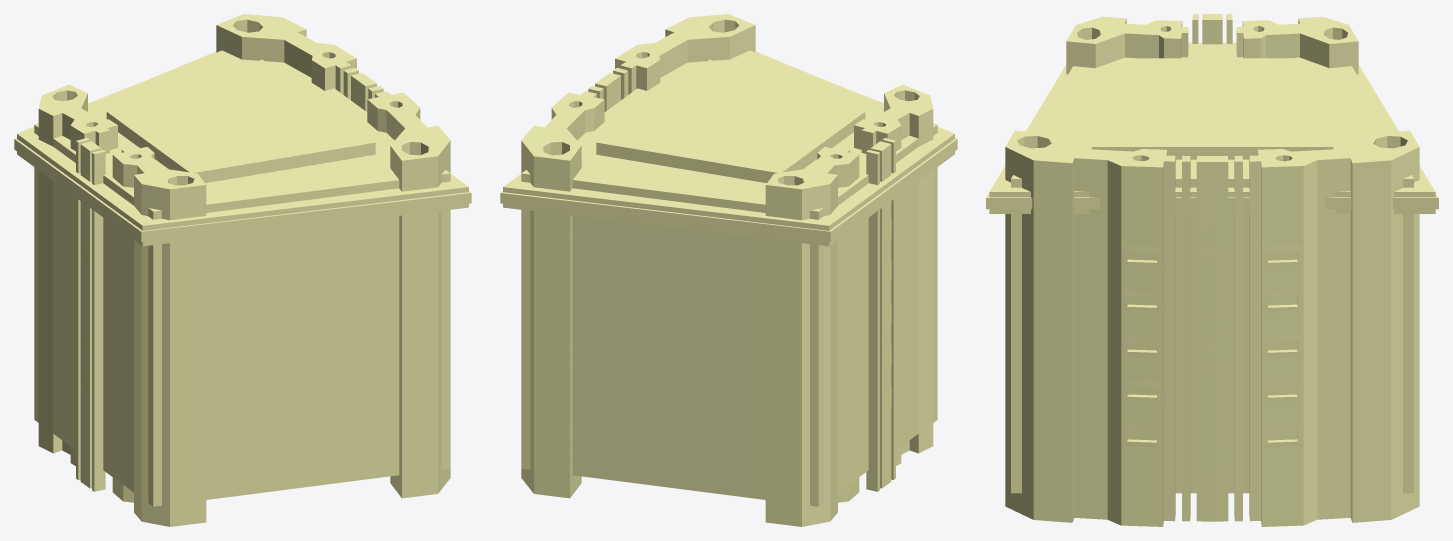
Rendered from MangaKa Props - F_S_ScifiBuilding_57.glb.
3 views of the same model, side by side, from view 1: azimuth 30°, elevation 25°; view 2: azimuth 150°, elevation 25°; view 3: azimuth 270°, elevation 25° (orthographic). The views are drawn at different scales.
Visible parts, largest first — view 1: F_S_ScifiBuilding_57002_blueScreen, F_S_ScifiBuilding_57004_blueScreen, F_S_ScifiBuilding_57_blueScreen, F_S_ScifiBuilding_57003_blueScreen, F_S_ScifiBuilding_57001_blueScreen; view 2: F_S_ScifiBuilding_57002_blueScreen, F_S_ScifiBuilding_57004_blueScreen, F_S_ScifiBuilding_57_blueScreen, F_S_ScifiBuilding_57003_blueScreen, F_S_ScifiBuilding_57001_blueScreen; view 3: F_S_ScifiBuilding_57004_blueScreen, F_S_ScifiBuilding_57_blueScreen, F_S_ScifiBuilding_57002_blueScreen, F_S_ScifiBuilding_57001_blueScreen, F_S_ScifiBuilding_57003_blueScreen.
Boxes of the visible parts, x1,y1,x2,y2 form: F_S_ScifiBuilding_57002_blueScreen: (34,68,450,506); F_S_ScifiBuilding_57004_blueScreen: (38,14,450,526); F_S_ScifiBuilding_57_blueScreen: (14,50,471,491); F_S_ScifiBuilding_57003_blueScreen: (76,216,103,417); F_S_ScifiBuilding_57001_blueScreen: (351,73,376,111); F_S_ScifiBuilding_57002_blueScreen: (521,68,937,506); F_S_ScifiBuilding_57004_blueScreen: (521,14,933,526); F_S_ScifiBuilding_57_blueScreen: (500,50,957,491); F_S_ScifiBuilding_57003_blueScreen: (868,216,895,417); F_S_ScifiBuilding_57001_blueScreen: (595,73,620,111); F_S_ScifiBuilding_57004_blueScreen: (1005,16,1419,526); F_S_ScifiBuilding_57_blueScreen: (986,14,1438,213); F_S_ScifiBuilding_57002_blueScreen: (1011,155,1413,521); F_S_ScifiBuilding_57001_blueScreen: (1196,156,1228,521); F_S_ScifiBuilding_57003_blueScreen: (1127,250,1297,440).
Size of the model in its own units: 8.58 by 9.15 by 10.44.
